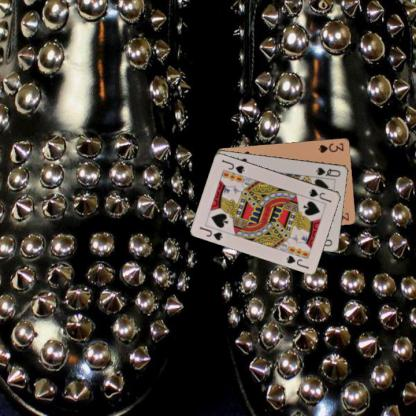3s: (316, 140, 345, 154)
Js: (197, 223, 224, 242), (307, 186, 333, 204)
Qs: (314, 165, 341, 178)
